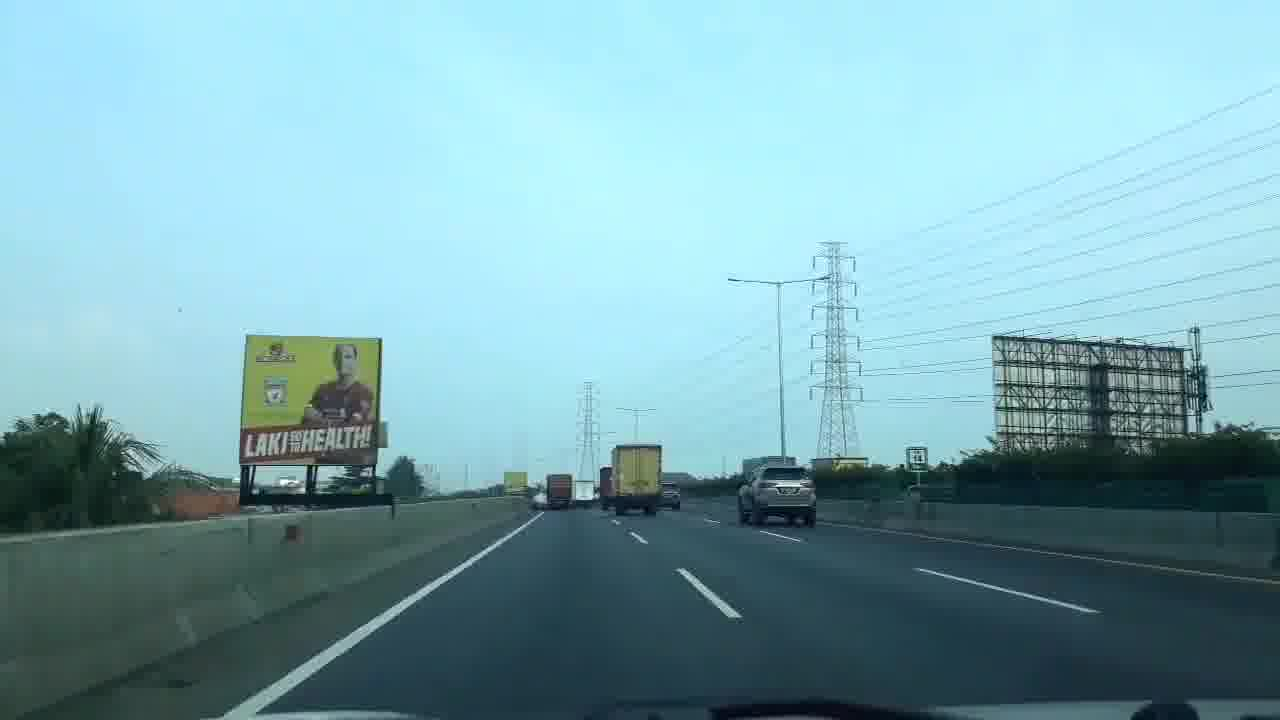plate_positive: (779, 487, 799, 495)
